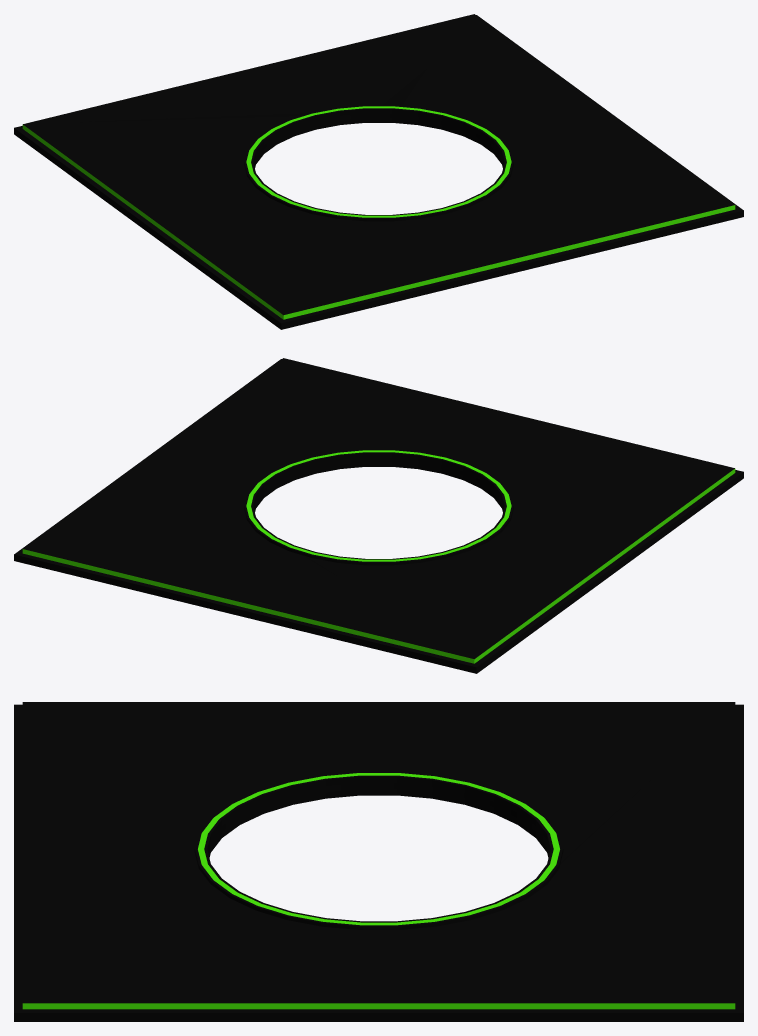
3 views of the same model, one above another, from view 1: azimuth 30°, elevation 25°; view 2: azimuth 150°, elevation 25°; view 3: azimuth 270°, elevation 25° (orthographic). The views are drawn at different scales.
Visible parts, largest first — view 1: Box001, Tube001; view 2: Box001, Tube001; view 3: Box001, Tube001.
Boxes of the visible parts, x1,y1,x2,y2 form: Box001: [14, 14, 743, 329]; Tube001: [244, 105, 513, 221]; Box001: [14, 358, 743, 673]; Tube001: [244, 449, 513, 565]; Box001: [14, 702, 743, 1021]; Tube001: [194, 771, 563, 929].
Size of the model in its own units: 500 by 14.13 by 500.
